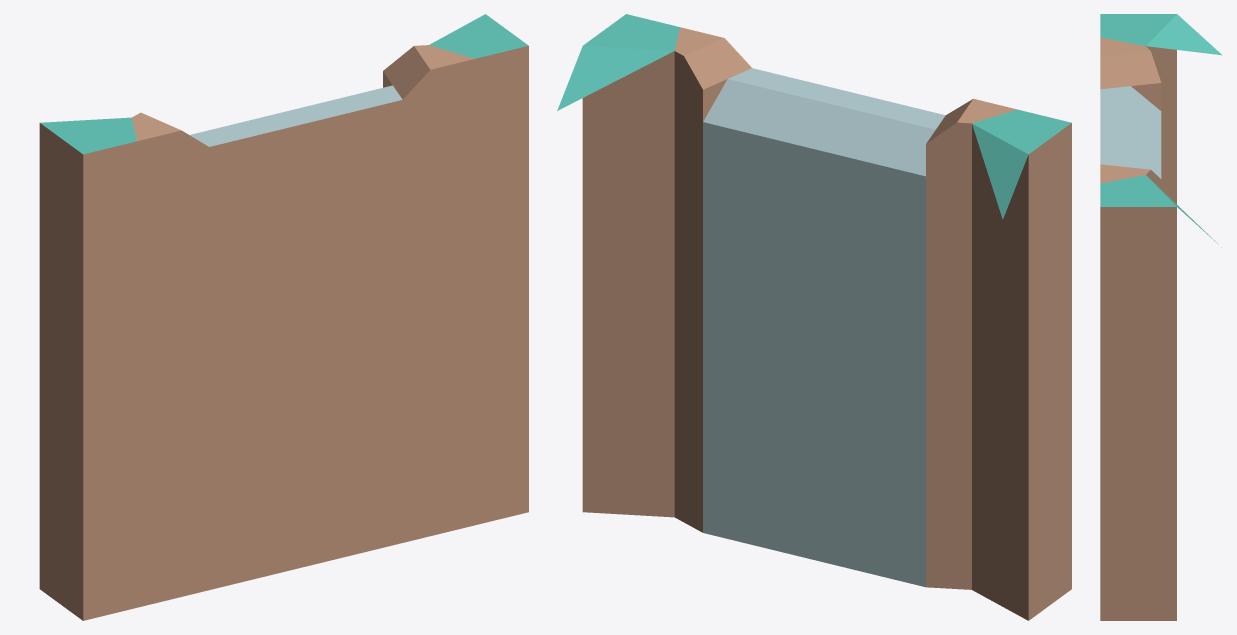
The model's file is cliff_waterfallTop_rock.glb.
3 renders of one model, left to right at view 1: azimuth 30°, elevation 25°; view 2: azimuth 150°, elevation 25°; view 3: azimuth 270°, elevation 25°, orthographic. The views are drawn at different scales.
Visible parts, largest first — view 1: cliff_waterfallTop_rock; view 2: cliff_waterfallTop_rock; view 3: cliff_waterfallTop_rock.
Boxes of the visible parts, x1,y1,x2,y2 form: cliff_waterfallTop_rock: [39, 14, 528, 620]; cliff_waterfallTop_rock: [557, 14, 1071, 620]; cliff_waterfallTop_rock: [1100, 14, 1222, 620].
Bounding box in the file's own units: 1 × 1 × 0.2685.
